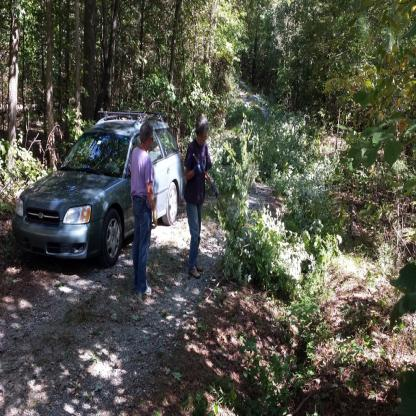Car: (12, 118, 180, 273)
